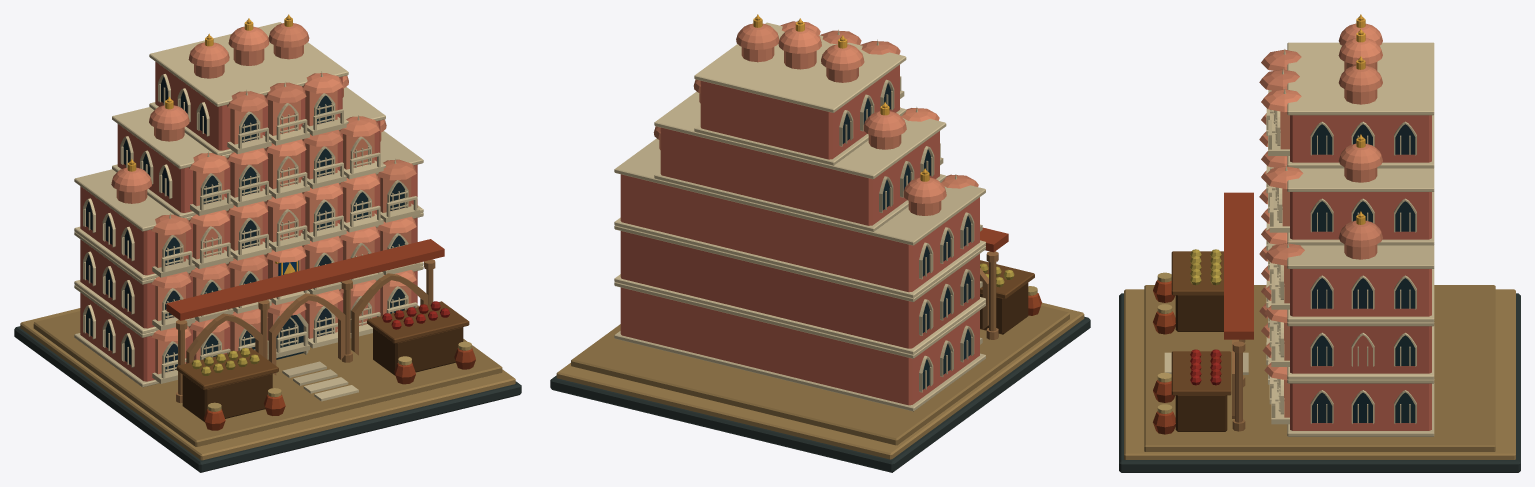
The picture shows the model from 3 angles, left to right: view 1: azimuth 30°, elevation 25°; view 2: azimuth 150°, elevation 25°; view 3: azimuth 270°, elevation 25°; orthographic projection. The views are drawn at different scales.
Visible parts, largest first — view 1: market_L2_0, market_L2_1; view 2: market_L2_0; view 3: market_L2_0, market_L2_1.
Boxes of the visible parts, x1=… form: market_L2_0: x1=14, y1=17, x2=521, y2=472; market_L2_1: x1=127, y1=14, x2=298, y2=275; market_L2_0: x1=550, y1=17, x2=1090, y2=472; market_L2_0: x1=1119, y1=17, x2=1520, y2=472; market_L2_1: x1=1356, y1=14, x2=1365, y2=224.
Bounding box in the file's own units: 5.6 × 5.55 × 5.6.
